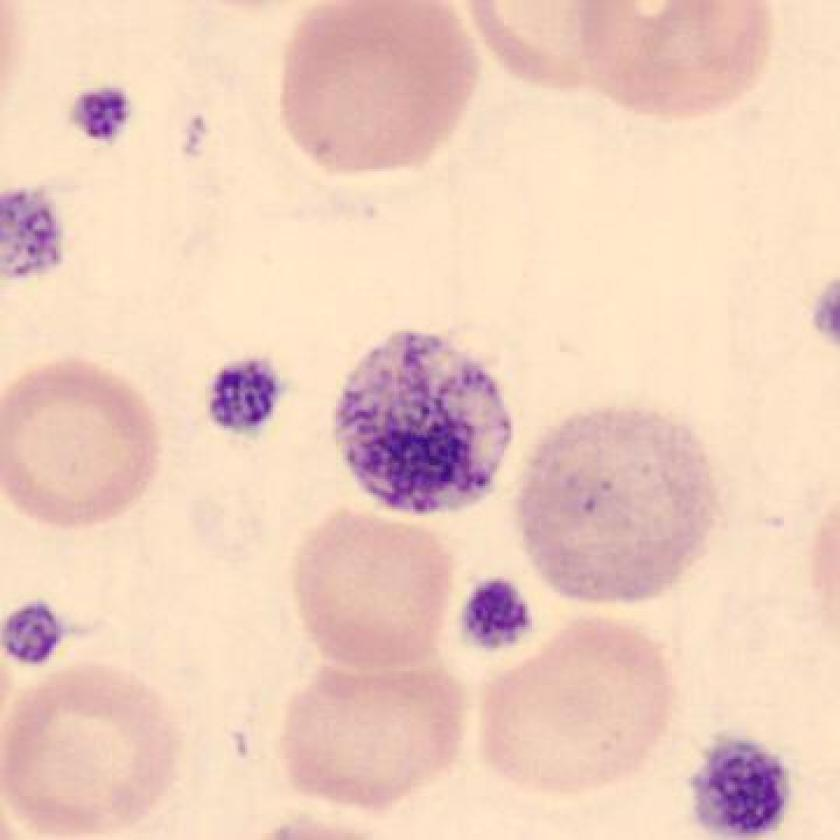platelets: (328, 325, 521, 519), (680, 732, 799, 840), (1, 177, 71, 292), (202, 351, 290, 441), (458, 573, 545, 658), (1, 593, 64, 677), (64, 80, 136, 151)
